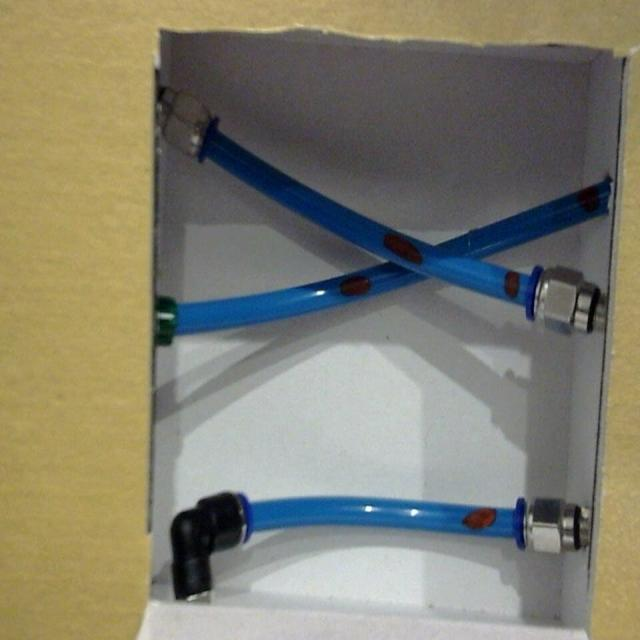hose_damage: (375, 223, 430, 272), (457, 501, 500, 537), (572, 179, 605, 220), (339, 274, 371, 299), (502, 267, 522, 303)
